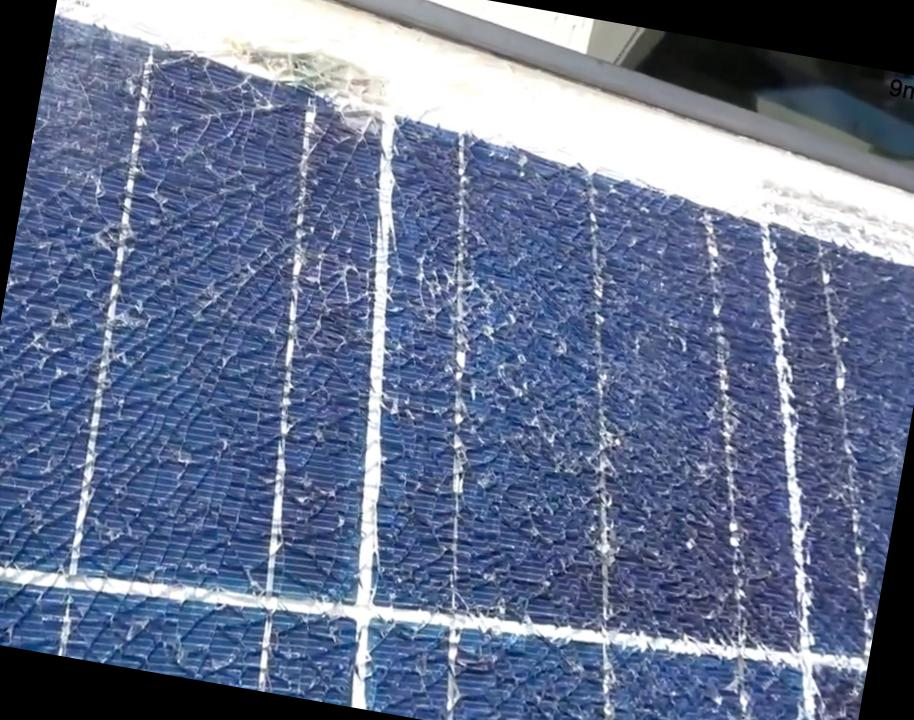Crack: (0, 248, 406, 705), (327, 345, 736, 719), (389, 124, 734, 415), (135, 34, 424, 304), (666, 212, 913, 512), (665, 466, 898, 719)
